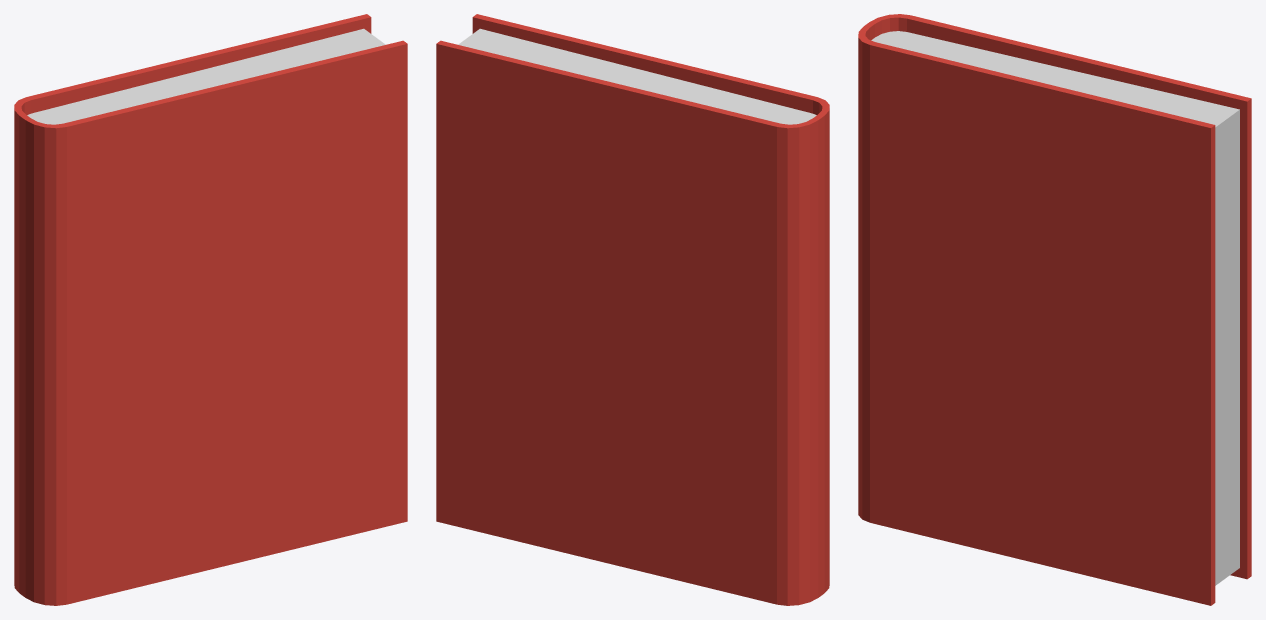
File: book_4.fbx
3 views of the same model, side by side, from view 1: azimuth 30°, elevation 25°; view 2: azimuth 150°, elevation 25°; view 3: azimuth 330°, elevation 25° (orthographic).
Parts seen in each view (by area): view 1: book_4_export; view 2: book_4_export; view 3: book_4_export.
Part boxes in pixels (left/top/right/bottom): book_4_export: left=14, top=14, right=407, bottom=605; book_4_export: left=436, top=14, right=829, bottom=605; book_4_export: left=858, top=14, right=1251, bottom=605.
Size of the model in its own units: 45.4 by 56.8 by 8.77.
